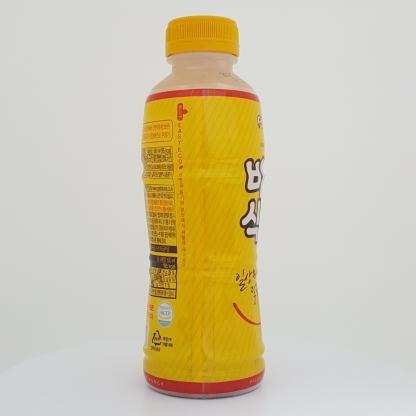------500ML: (141, 14, 265, 400)
